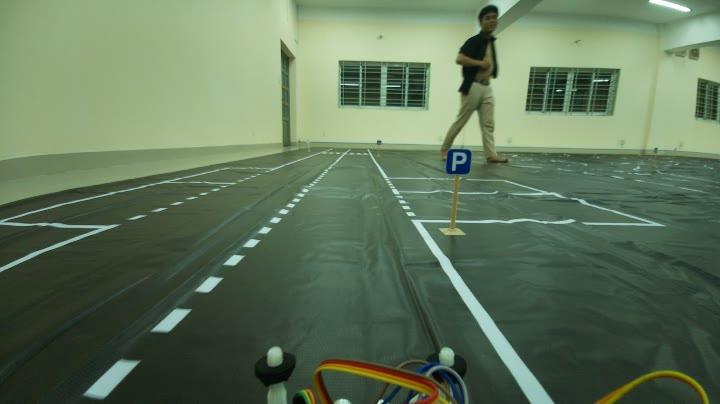parking: (442, 146, 476, 178)
